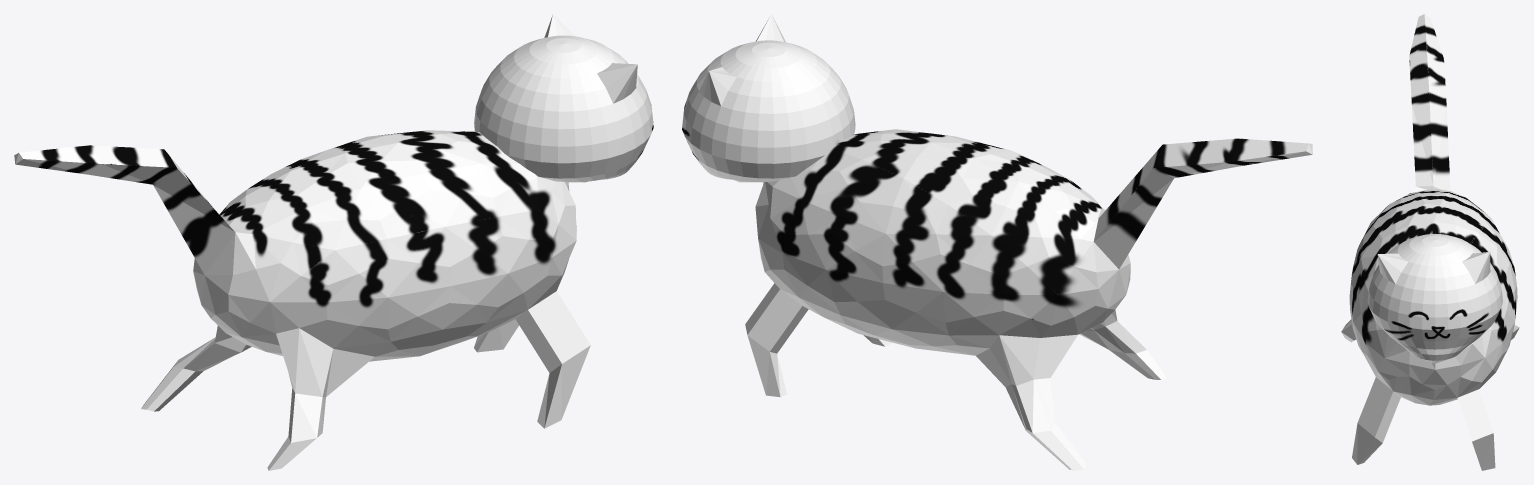
File: cat.fbx
The picture shows the model from 3 angles, left to right: view 1: azimuth 30°, elevation 25°; view 2: azimuth 150°, elevation 25°; view 3: azimuth 270°, elevation 25°; orthographic projection. The views are drawn at different scales.
Visible parts, largest first — view 1: Head; view 2: Head; view 3: Head.
Part boxes in pixels (<box>): Head: <box>14,14,653,470</box>; Head: <box>682,14,1312,470</box>; Head: <box>1341,14,1519,470</box>.
Bounding box in the file's own units: 2.38 × 1.28 × 0.7721.
1 material, 1 textured.
